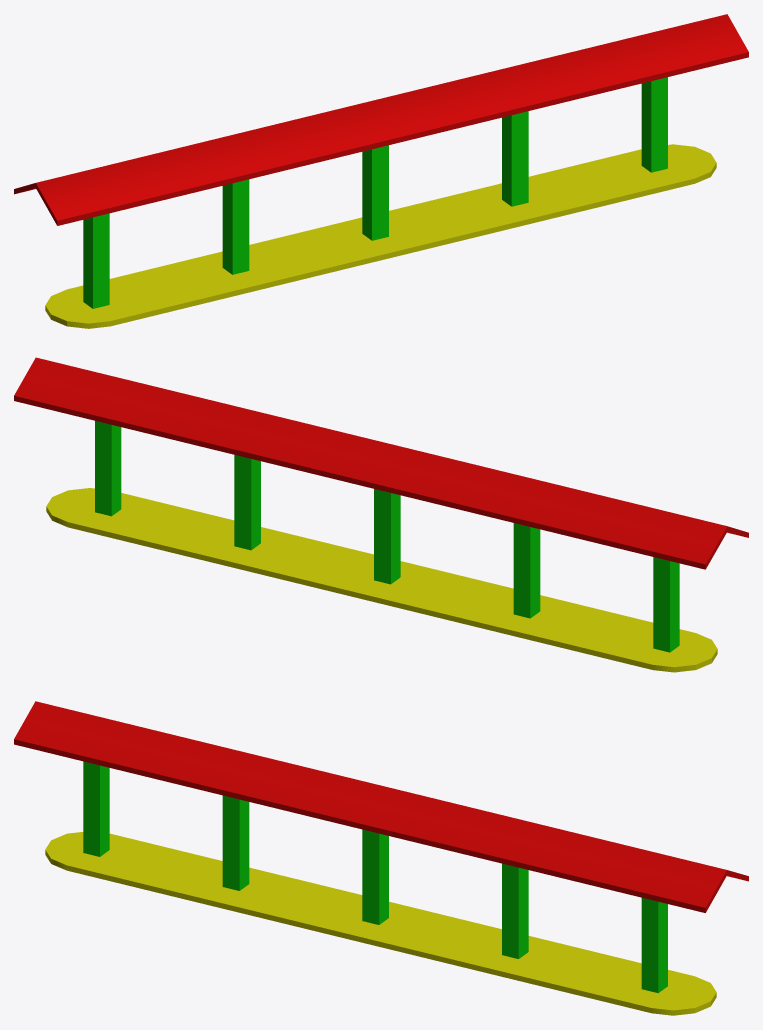
File: platform.dae
The picture shows the model from 3 angles, top to bottom: view 1: azimuth 30°, elevation 25°; view 2: azimuth 150°, elevation 25°; view 3: azimuth 330°, elevation 25°; orthographic projection.
Visible parts, largest first — view 1: platform; view 2: platform; view 3: platform.
Boxes of the visible parts, left/top/right/bottom form: platform: left=14, top=14, right=748, bottom=328; platform: left=14, top=357, right=748, bottom=672; platform: left=14, top=701, right=748, bottom=1015.
Bounding box in the file's own units: 41.07 × 7.99 × 4.46.
